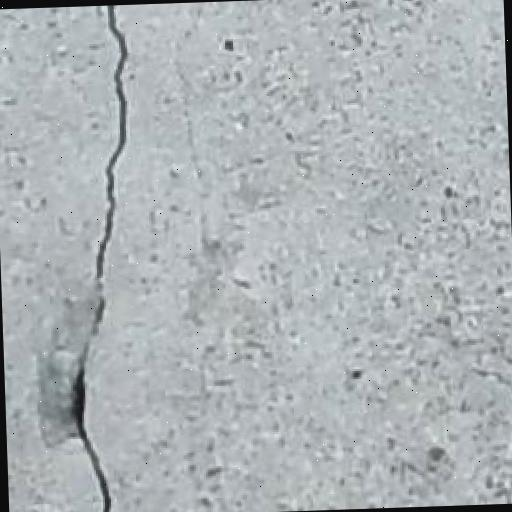spalling: (45, 8, 137, 510)
